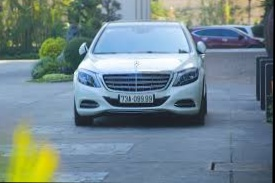Bien-so: (116, 99, 153, 112)
